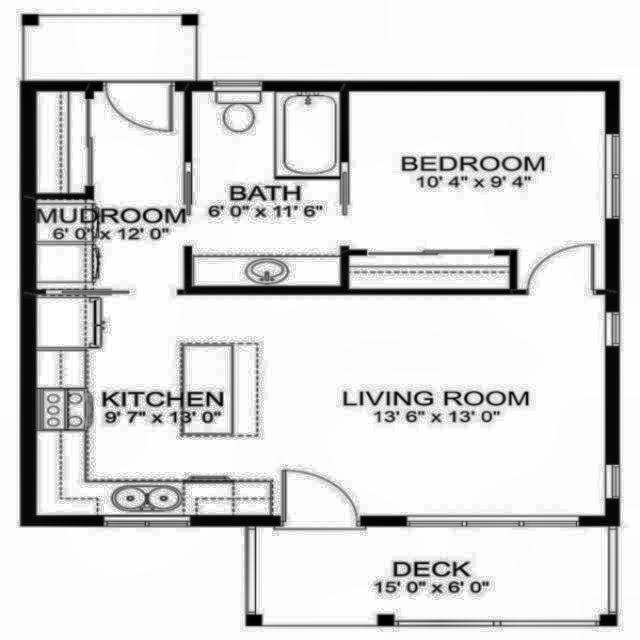room: (36, 295, 607, 517), (349, 91, 607, 290), (255, 527, 608, 625), (36, 91, 184, 289), (192, 91, 340, 286)
